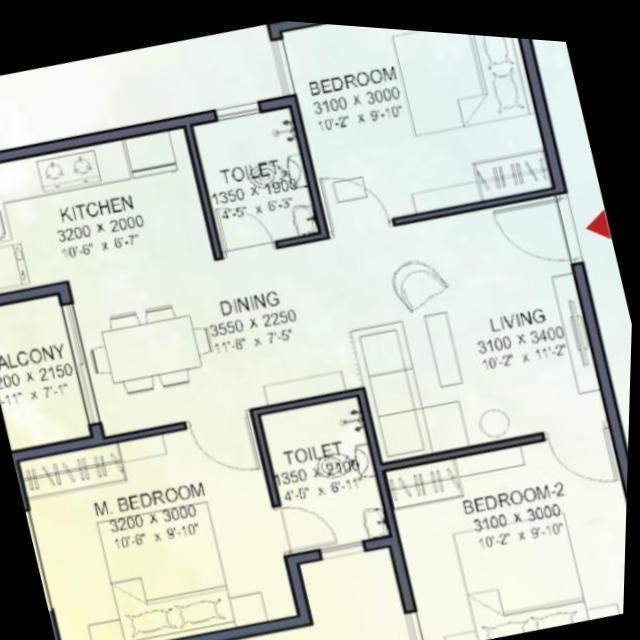Balcony-Sitout: (0, 292, 93, 449)
Bedroom: (277, 18, 555, 232), (381, 412, 629, 640)
Bedroom with Toilet: (16, 383, 396, 640)
Dining: (75, 292, 223, 408)
Enterance-Foyer: (487, 174, 617, 268)
Kitchen: (0, 124, 214, 292)
Living: (329, 185, 609, 457)
Toilet: (262, 391, 390, 547), (192, 101, 319, 245)
